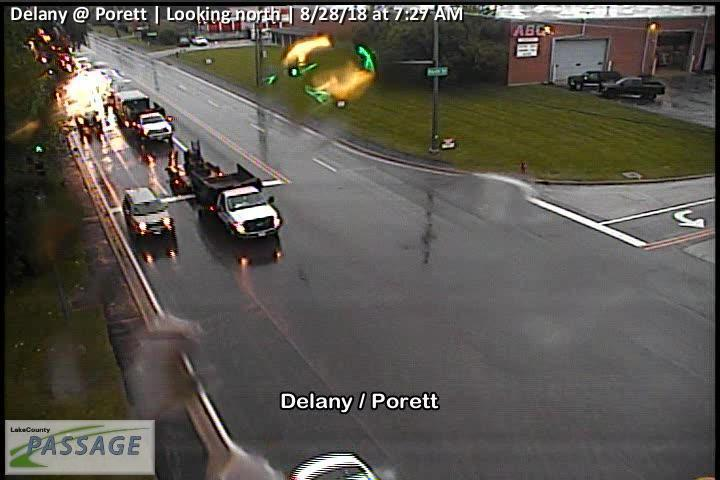SUV: (124, 187, 175, 240), (598, 77, 665, 104), (568, 71, 622, 92)
Truck: (190, 163, 283, 238), (112, 88, 176, 142), (167, 140, 222, 195)
